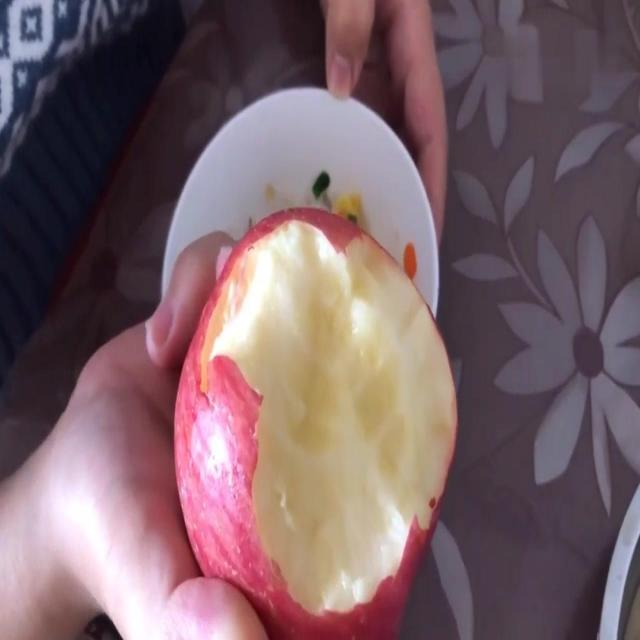Rotten: (177, 224, 467, 640)
